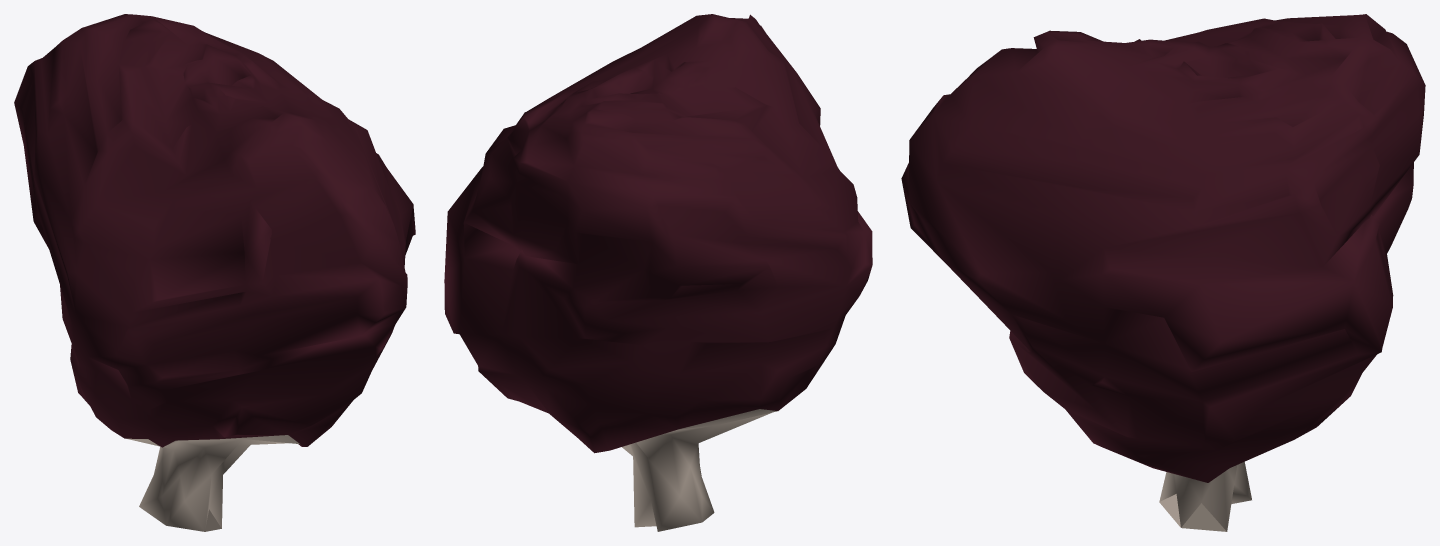
File: Strochok Mushroom.fbx
3 renders of one model, left to right at view 1: azimuth 30°, elevation 25°; view 2: azimuth 150°, elevation 25°; view 3: azimuth 270°, elevation 25°, orthographic. The views are drawn at different scales.
Parts seen in each view (by area): view 1: Strochok Mushroom; view 2: Strochok Mushroom; view 3: Strochok Mushroom.
Boxes of the visible parts, left/top/right/bottom form: Strochok Mushroom: left=14, top=14, right=415, bottom=531; Strochok Mushroom: left=444, top=14, right=872, bottom=531; Strochok Mushroom: left=901, top=14, right=1425, bottom=531.
Size of the model in its own units: 23.08 by 27.36 by 26.45.
